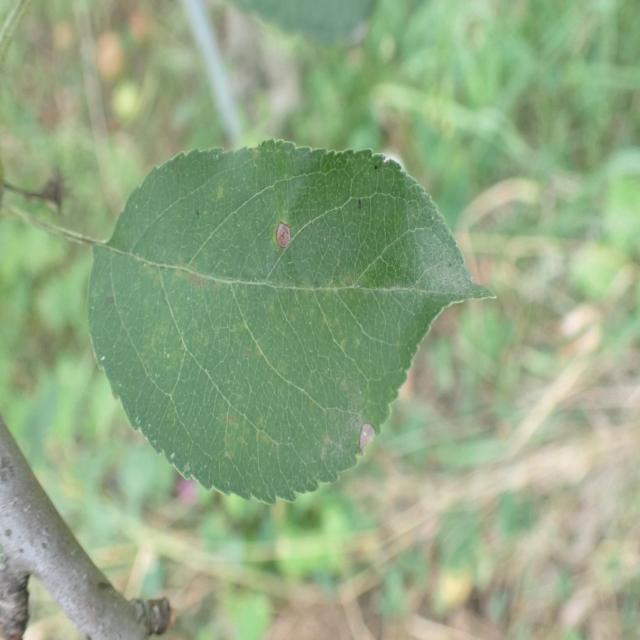frog-eye-leaf-spot: (85, 137, 499, 505)
